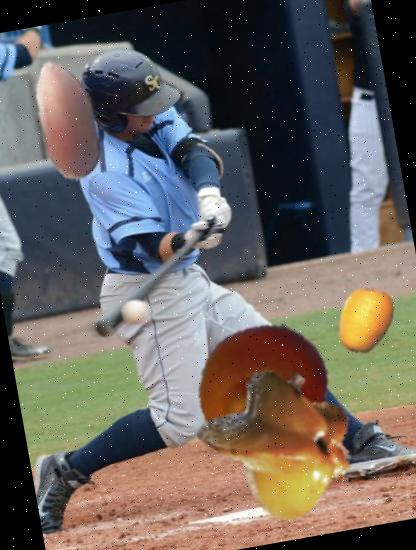Carambula: (194, 354, 368, 528)
Hazelnut: (0, 47, 140, 192)
Kumquats: (326, 280, 404, 359)
Tangelo: (184, 310, 343, 469)
